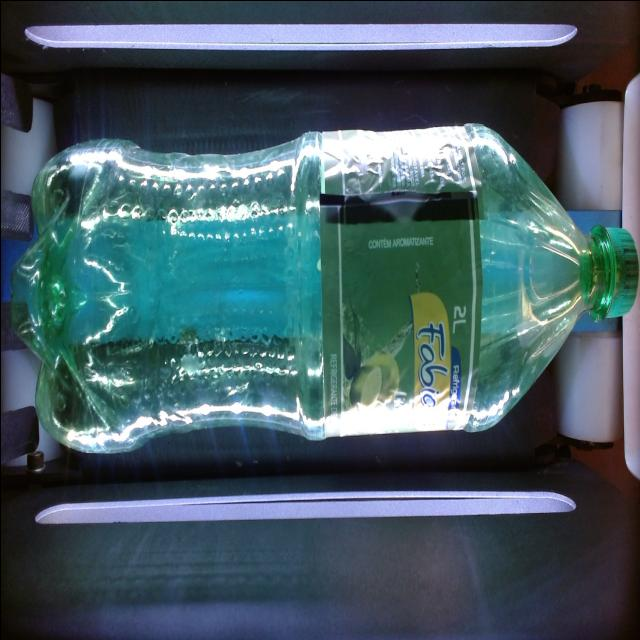bottle: (11, 124, 637, 451)
